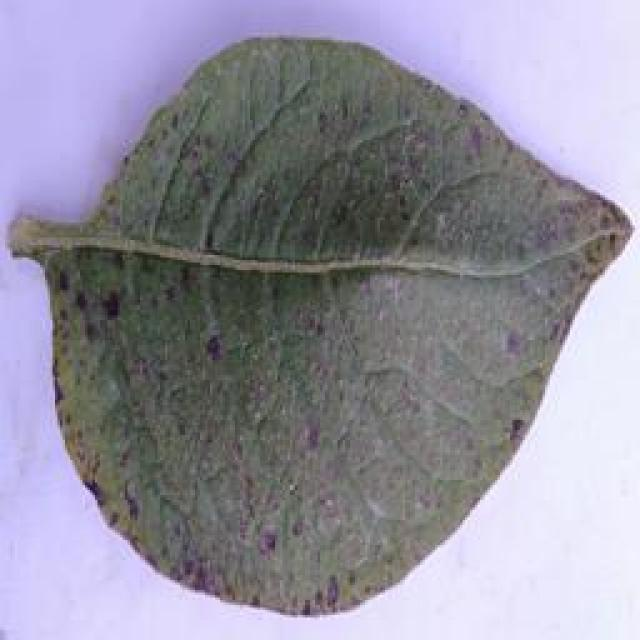Potato_Early_Blight: (21, 8, 626, 616)
